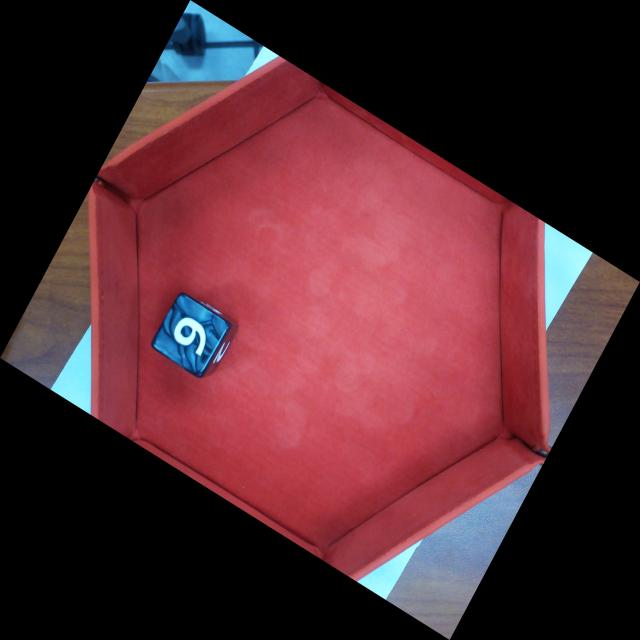dice: (153, 291, 233, 377)
